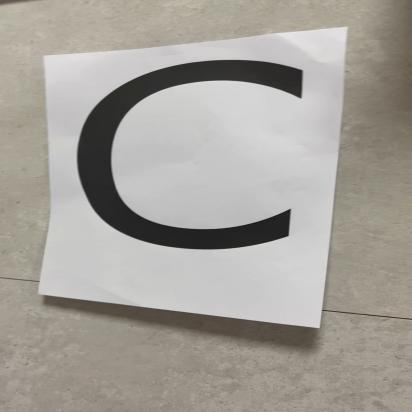seat: (43, 53, 331, 306)
